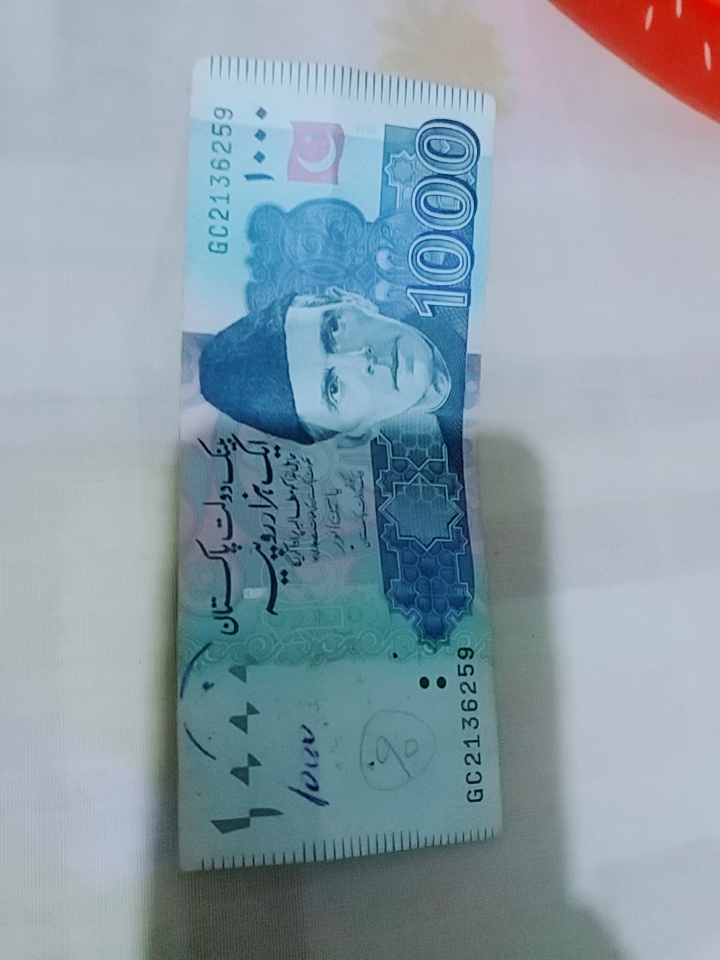1000 rupee: (170, 55, 527, 899)
